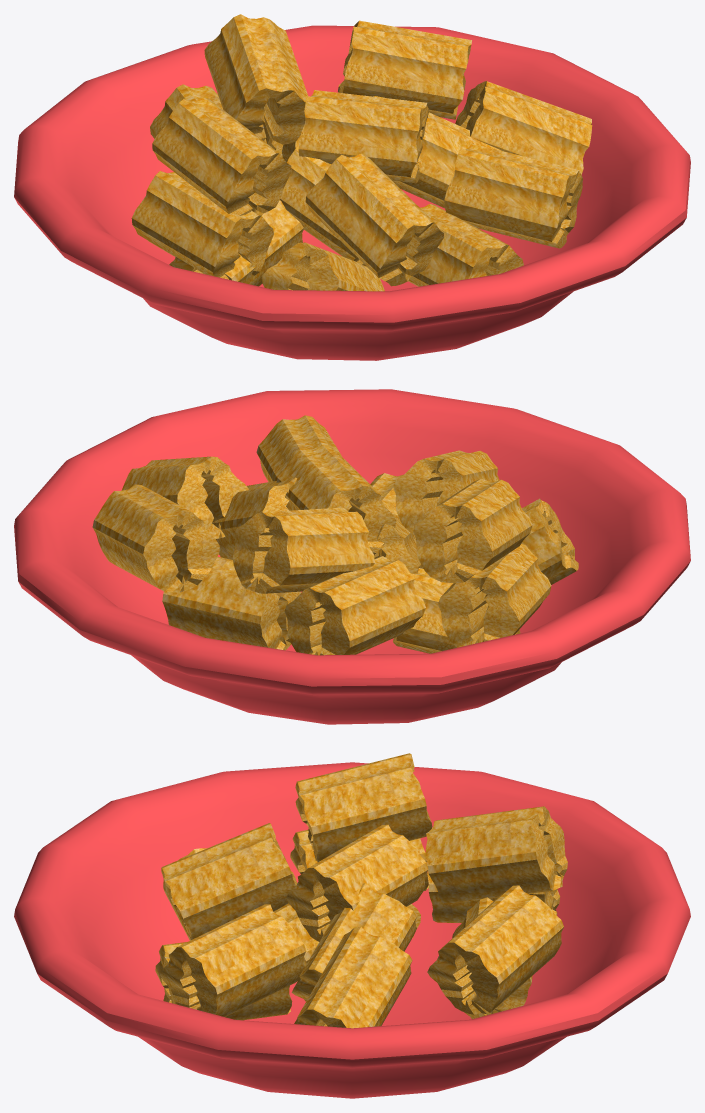
File: pohongpiring.glb
3 views of the same model, one above another, from view 1: azimuth 30°, elevation 25°; view 2: azimuth 150°, elevation 25°; view 3: azimuth 270°, elevation 25° (orthographic).
Parts seen in each view (by area): view 1: Cube, Cylinder.004, Cylinder.009, Cylinder.011, Cylinder.005, Cylinder.014, Cylinder.010, Cylinder.013, Cylinder.012, Cylinder.003, Cylinder.007, Cylinder.001 (+3 smaller); view 2: Cube, Cylinder.005, Cylinder.008, Cylinder.014, Cylinder.011, Cylinder.002, Cylinder.010, Cylinder.013, Cylinder.012, Cylinder.004, Cylinder.007, Cylinder.009 (+4 smaller); view 3: Cube, Cylinder.005, Cylinder.009, Cylinder.014, Cylinder.004, Cylinder.011, Cylinder.013, Cylinder.012, Cylinder.001, Cylinder.003, Cylinder.008, Cylinder.002 (+2 smaller).
Part boxes in pixels (<box>): Cube: <box>14,25,690,360</box>; Cylinder.004: <box>305,153,443,286</box>; Cylinder.009: <box>444,143,582,248</box>; Cylinder.011: <box>152,97,291,215</box>; Cylinder.005: <box>204,14,307,149</box>; Cylinder.014: <box>338,20,471,119</box>; Cylinder.010: <box>131,171,273,279</box>; Cylinder.013: <box>298,90,428,183</box>; Cylinder.012: <box>455,81,592,174</box>; Cylinder.003: <box>408,204,523,286</box>; Cylinder.007: <box>262,242,384,291</box>; Cylinder.001: <box>392,99,501,208</box>; Cube: <box>14,389,690,724</box>; Cylinder.005: <box>232,507,374,593</box>; Cylinder.008: <box>284,556,425,655</box>; Cylinder.014: <box>92,484,219,592</box>; Cylinder.011: <box>413,479,532,583</box>; Cylinder.002: <box>162,556,301,650</box>; Cylinder.010: <box>438,543,551,647</box>; Cylinder.013: <box>276,445,396,554</box>; Cylinder.012: <box>121,456,248,538</box>; Cylinder.004: <box>393,450,499,534</box>; Cylinder.007: <box>521,498,578,584</box>; Cylinder.009: <box>256,415,341,481</box>; Cube: <box>14,762,690,1098</box>; Cylinder.005: <box>425,806,567,904</box>; Cylinder.009: <box>160,904,305,1016</box>; Cylinder.014: <box>427,885,563,1014</box>; Cylinder.004: <box>161,823,297,939</box>; Cylinder.011: <box>295,753,432,861</box>; Cylinder.013: <box>286,824,428,941</box>; Cylinder.012: <box>294,926,412,1028</box>; Cylinder.001: <box>291,883,416,1001</box>; Cylinder.003: <box>155,942,292,1020</box>; Cylinder.008: <box>427,871,560,923</box>; Cylinder.002: <box>452,897,532,1018</box>.
Bounding box in the file's own units: 7.6 × 2.7 × 7.6.
2 materials, 1 textured.
